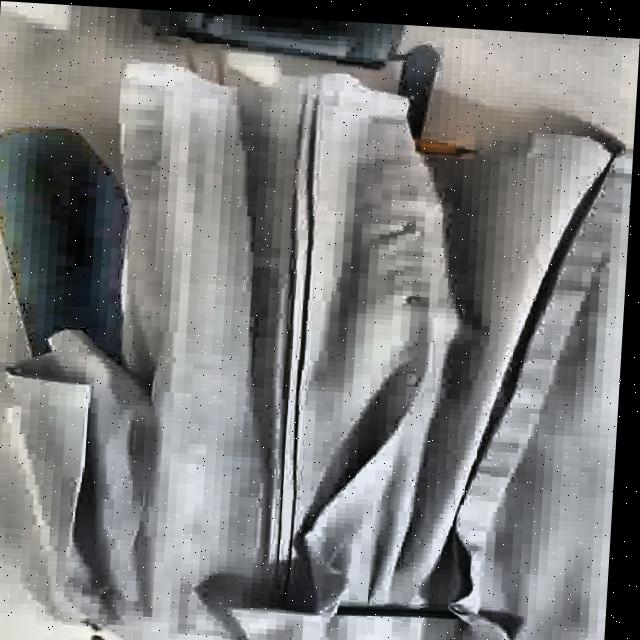clothes: (0, 31, 630, 640)
